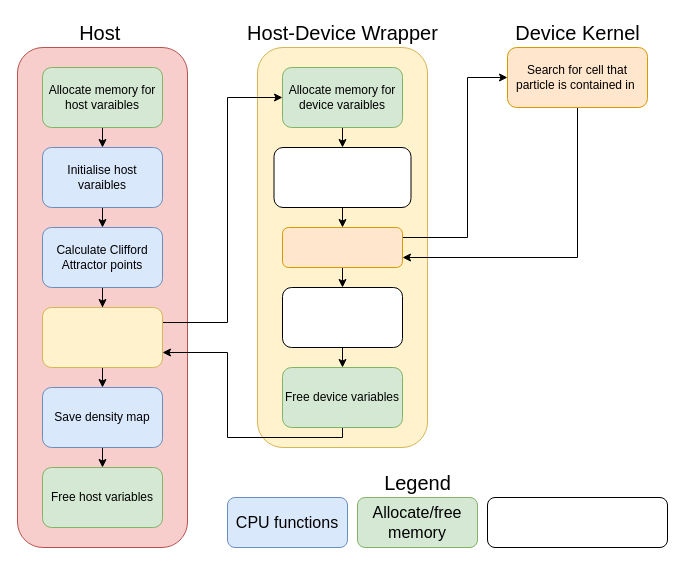
The diagram is 685 pixels wide and 565 high, and some of its shapes have lost their labels. The box of each missing label's shape, as (x1, y1, x2, y2) in pixels:
Call wrapper function: (42, 306, 162, 368)
Copy device variable information to host: (282, 286, 402, 348)
Copy host variable information to device: (273, 146, 411, 208)
Launch kernel: (282, 226, 402, 268)
Transfer data between host/device: (486, 496, 668, 548)
